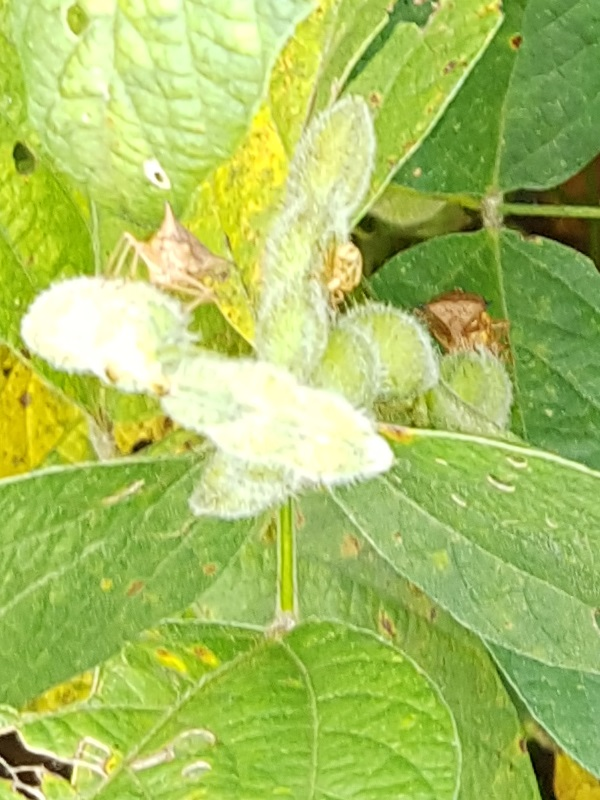Euschistus_heros_adulto: (82, 187, 258, 346), (400, 279, 527, 390)
Euschistus_heros_ninfa: (294, 219, 386, 322)
